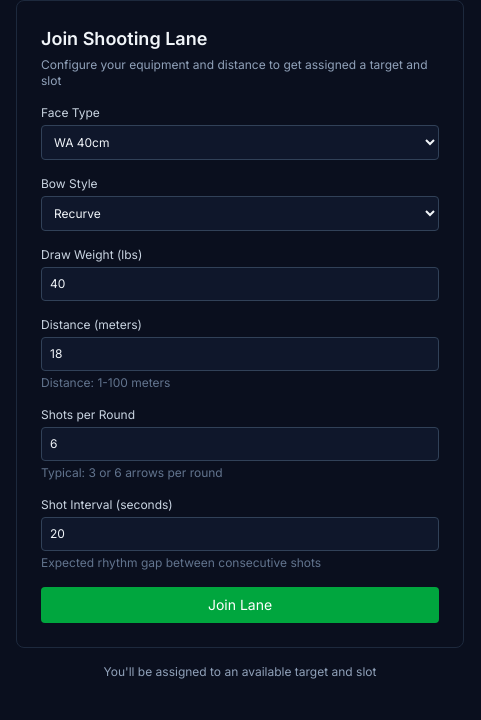
Test: slotJoinForm › shows validation error for invalid distance
# Set invalid distance
Replace the text in the number field labelled "Distance (meters) Distance: 1-100 meters" with "150" at point(240, 354), box [41,337,439,371]
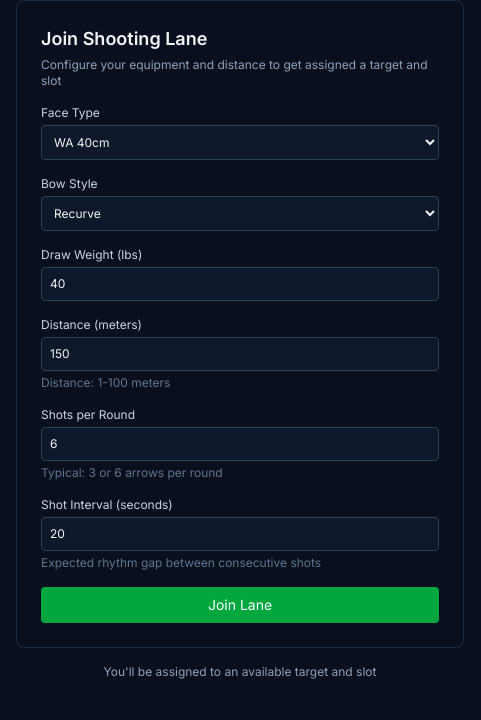
Submit the form
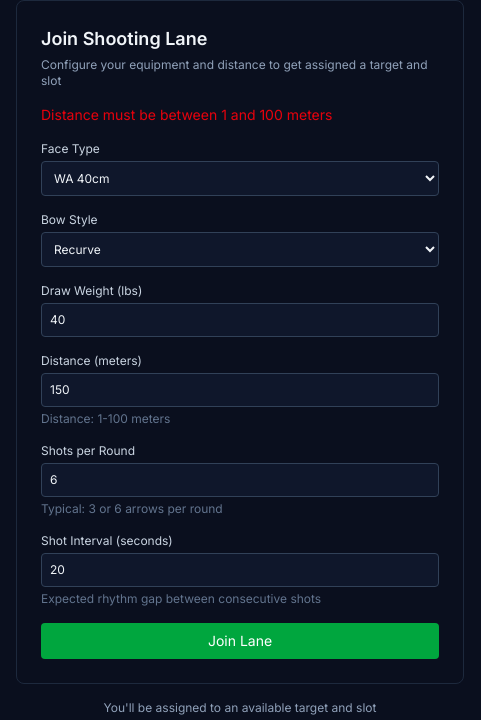
Now the text "Distance must be between 1 and 100 meters" is shown, box [41,106,332,123]
